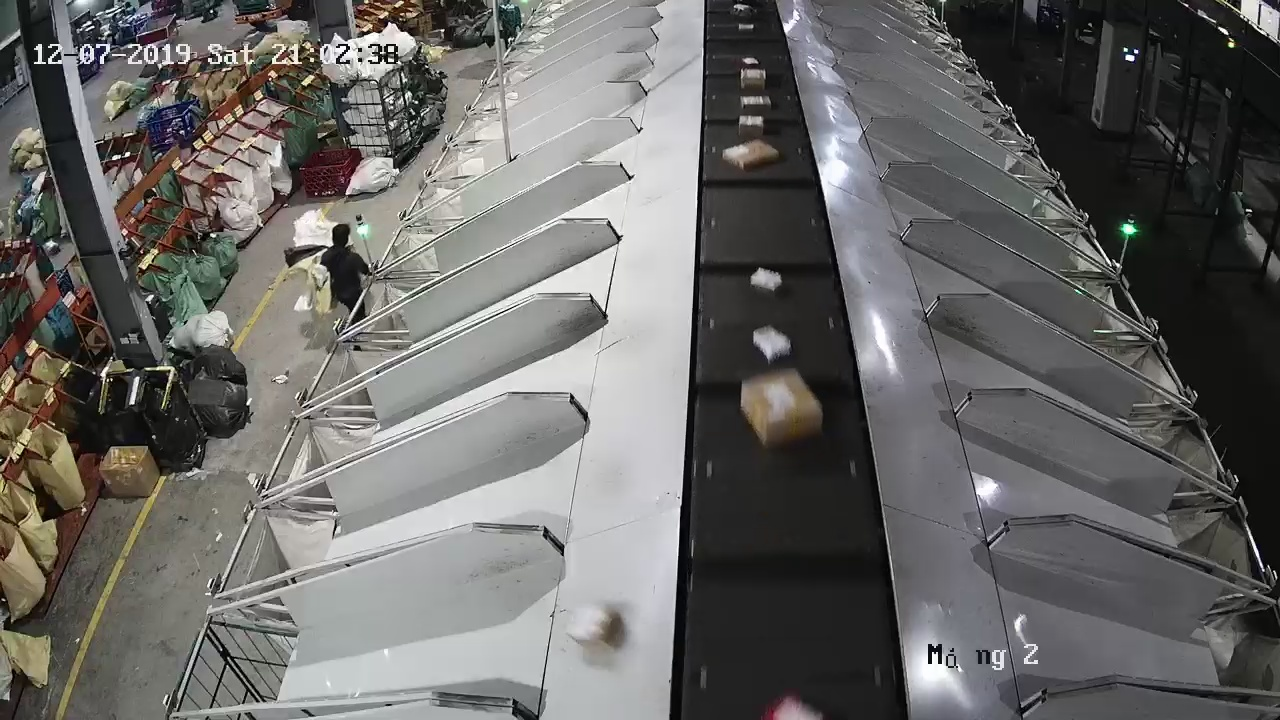parcel: (562, 605, 627, 654)
